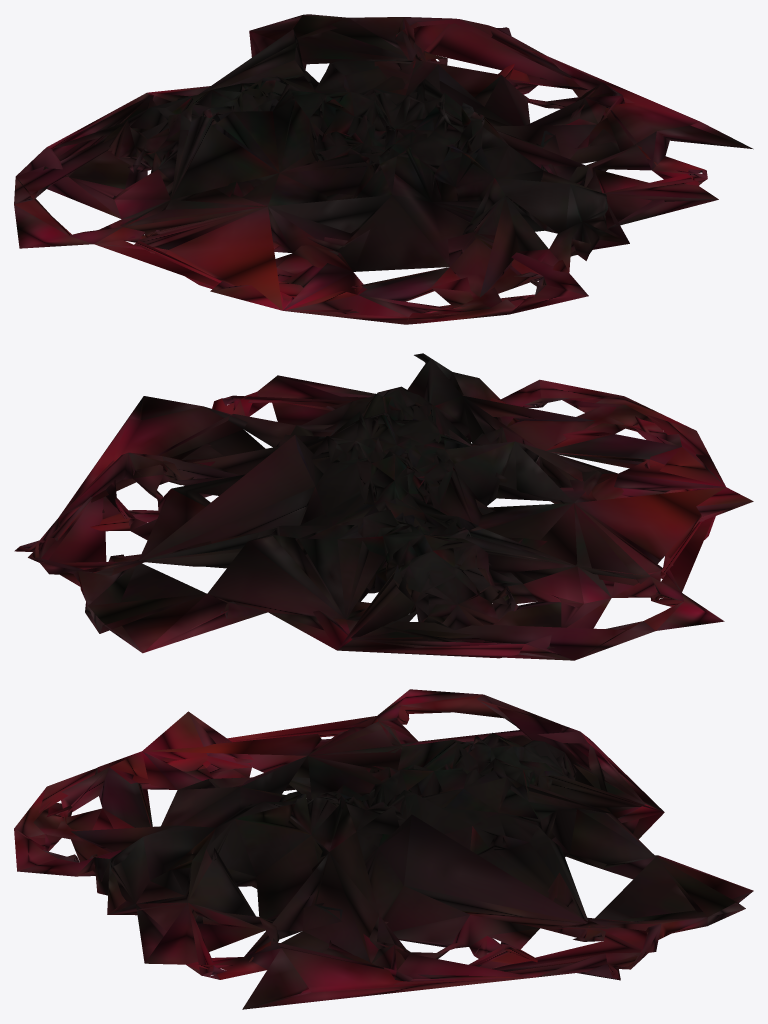
File: blood stain.glb
3 renders of one model, top to bottom at view 1: azimuth 30°, elevation 25°; view 2: azimuth 150°, elevation 25°; view 3: azimuth 270°, elevation 25°, orthographic. The views are drawn at different scales.
Size of the model in its own units: 1.92 by 0.2679 by 1.87.
Materials: 1 (1 with a texture image).
